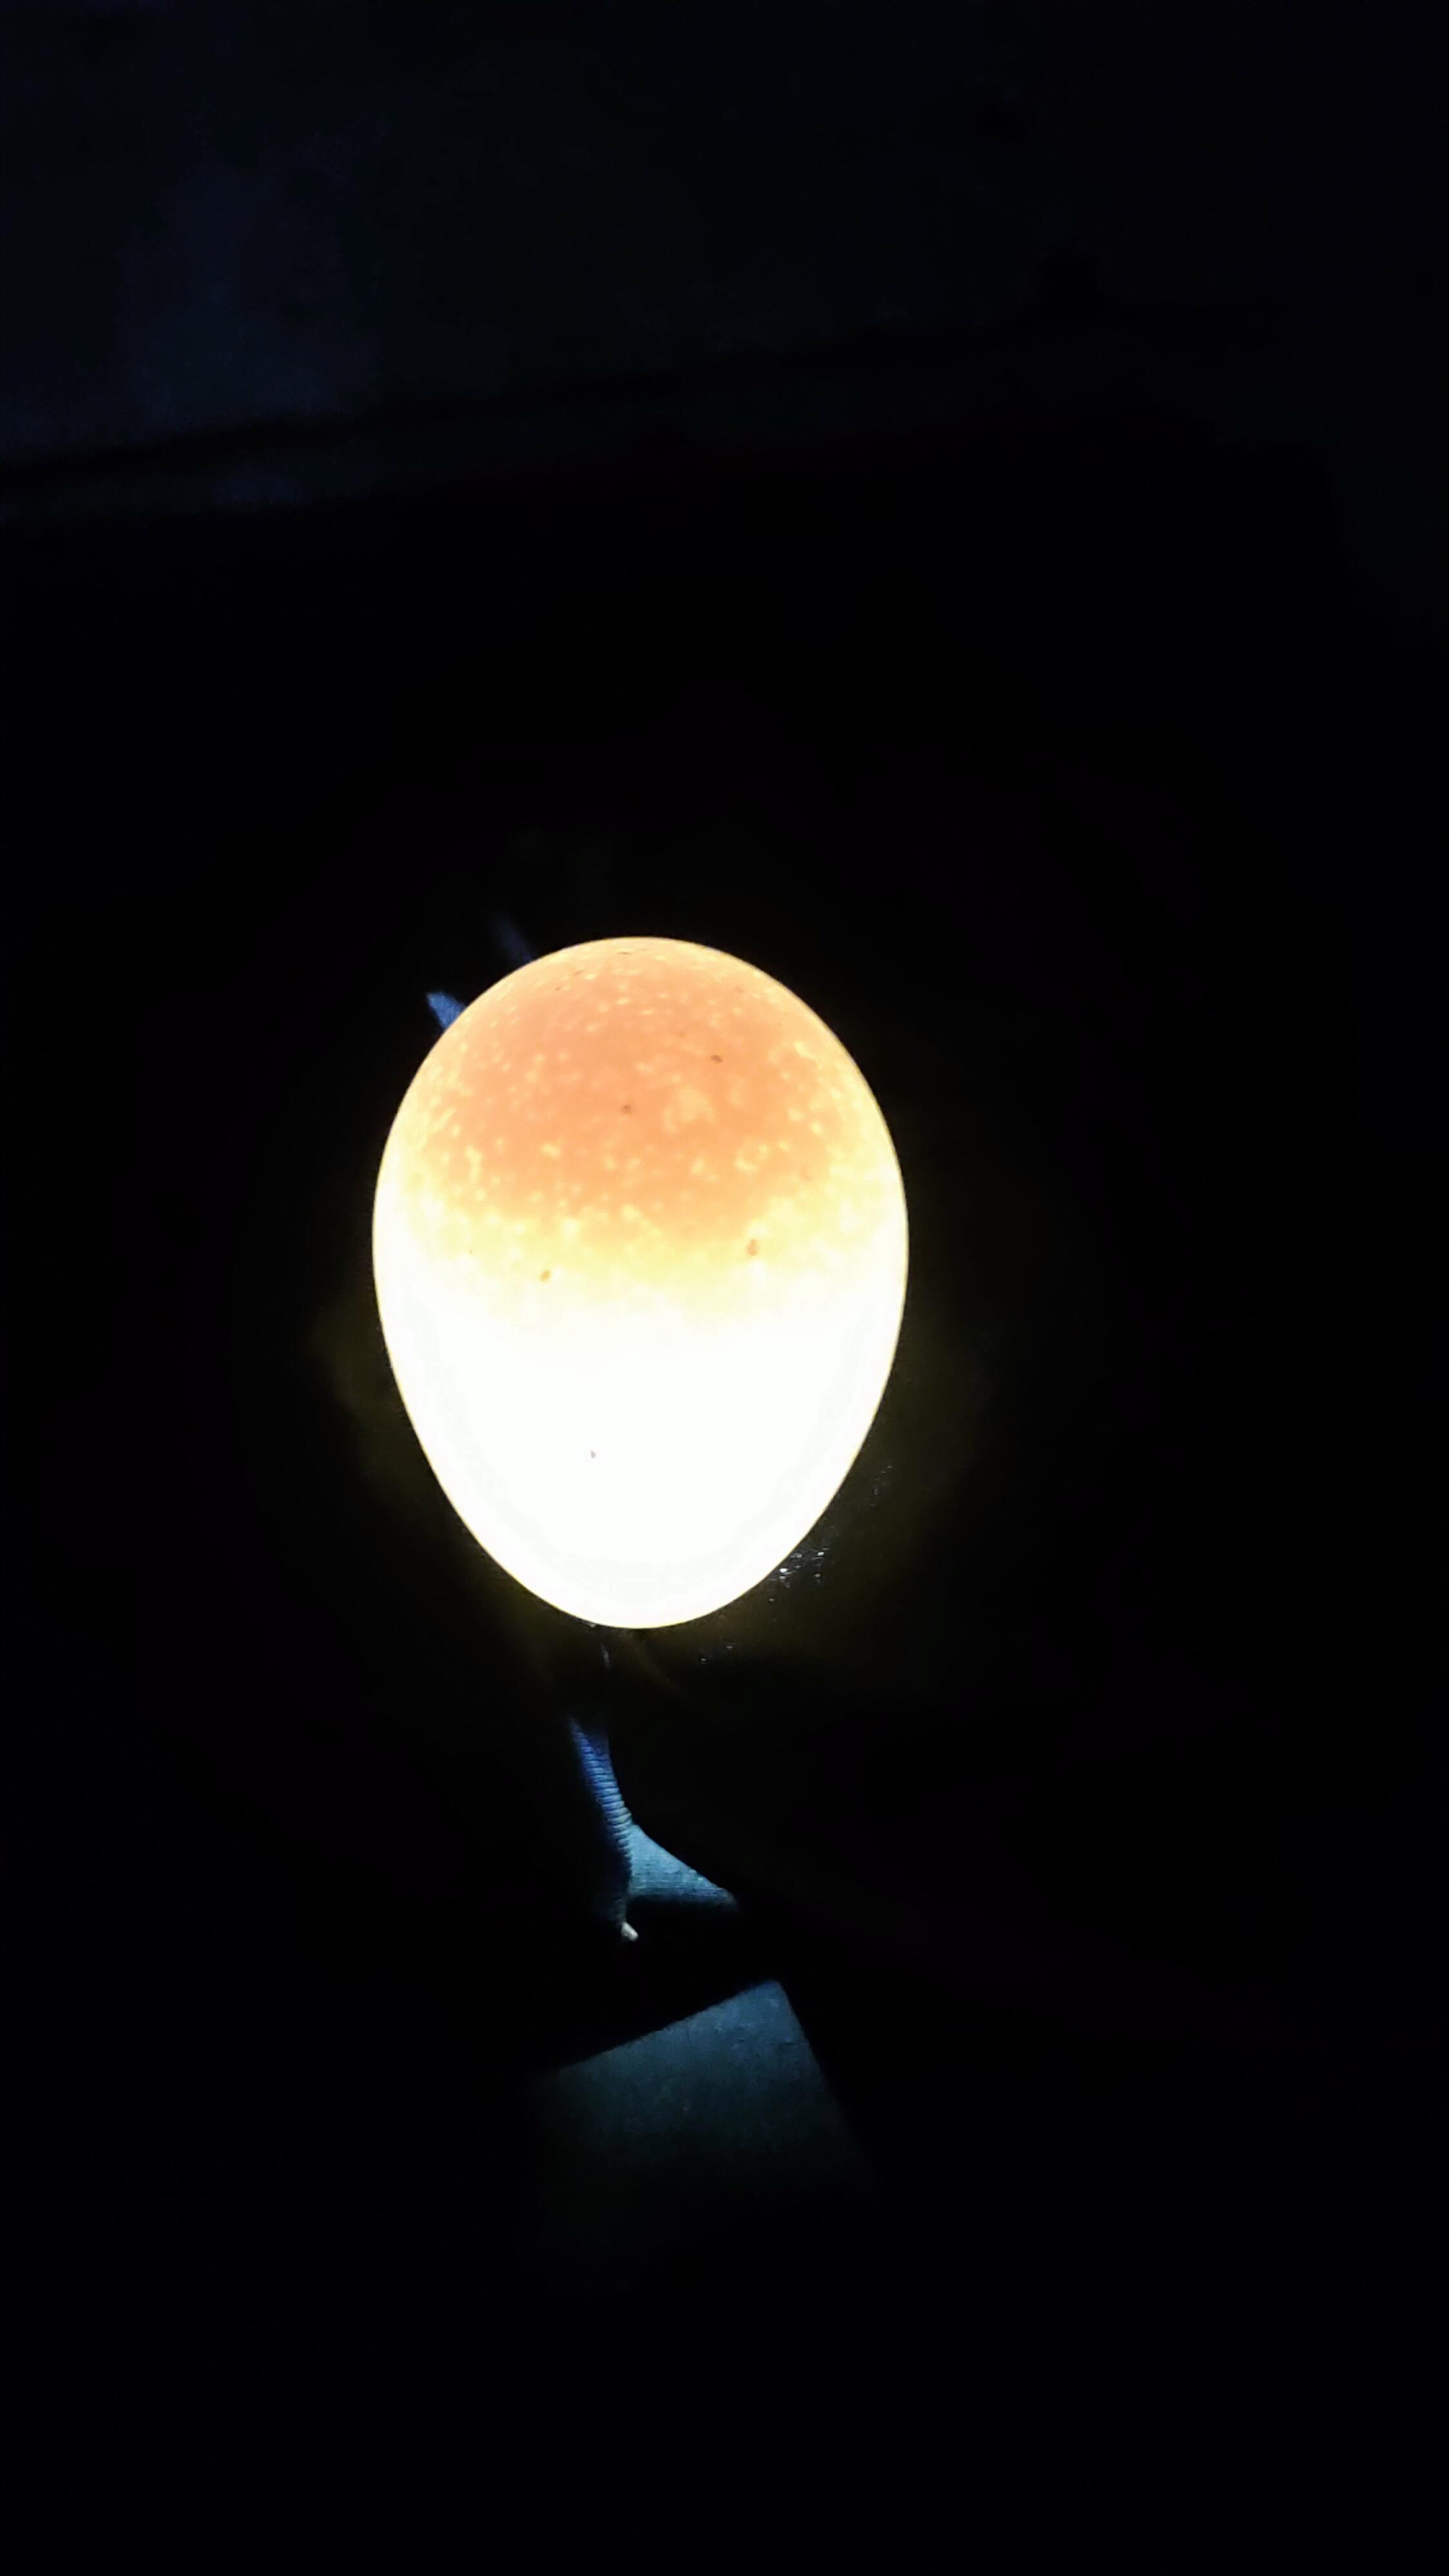Inedible: (361, 908, 939, 1654)
